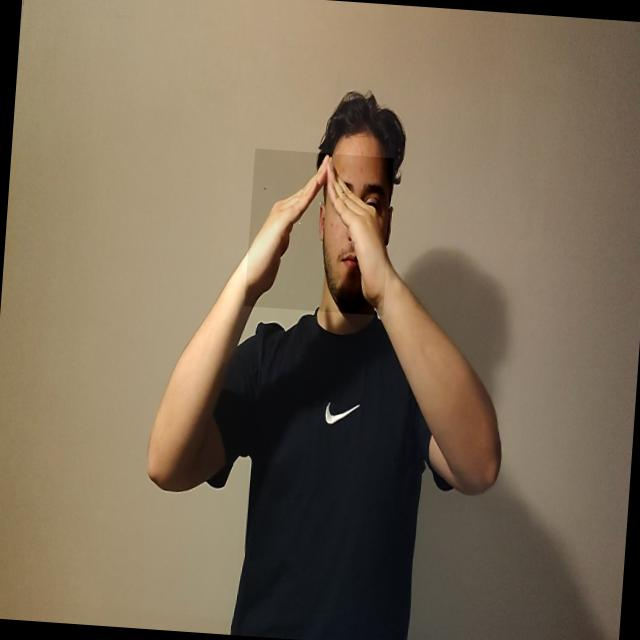house: (244, 148, 394, 315)
